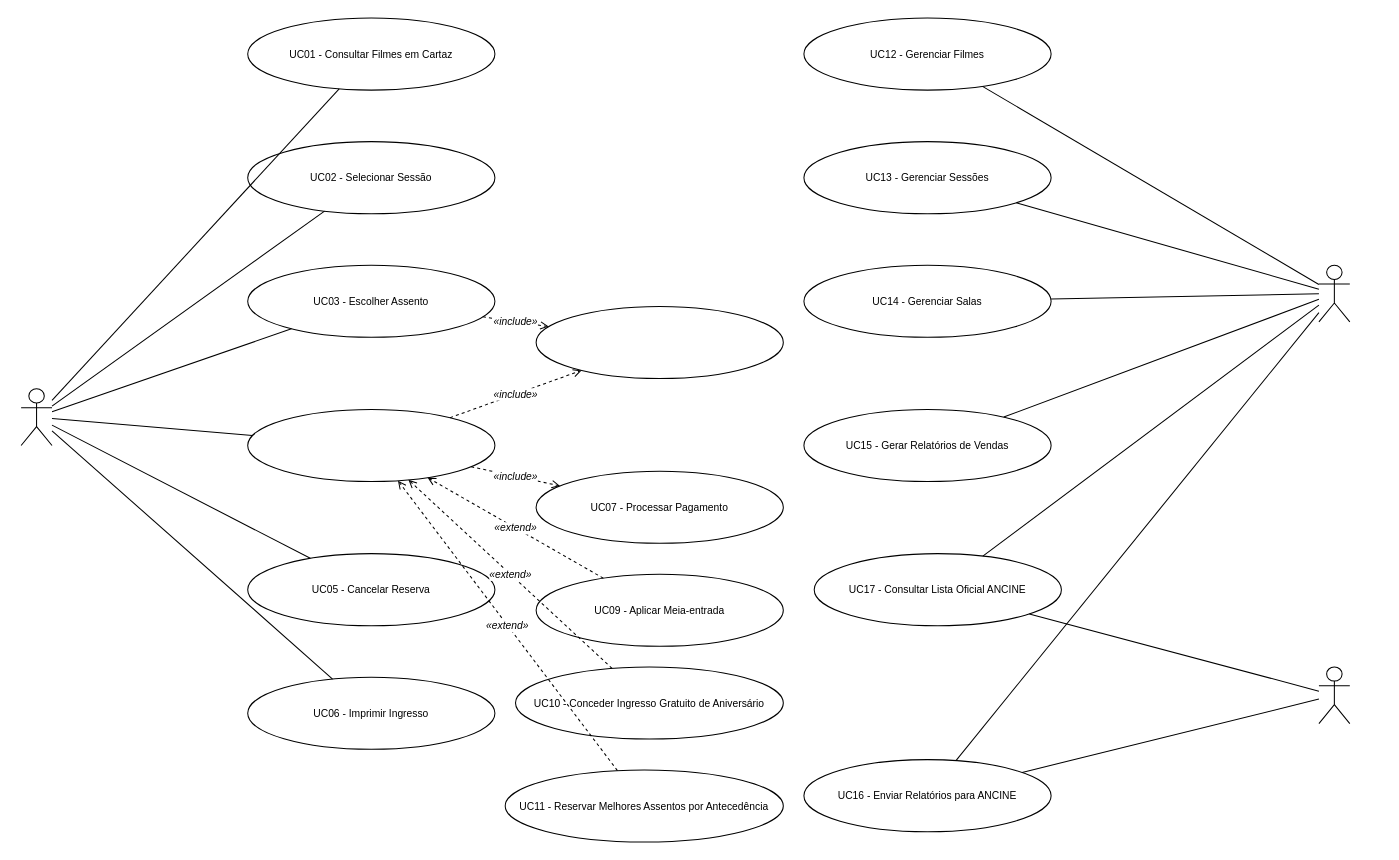
Some shapes in this 1399 by 860 pixel diagram are drawn without their labels. The box of each missing label's shape, as (x1, y1, x2, y2) in pixels:
Administrador: (1318, 264, 1350, 322)
Cliente: (20, 388, 52, 445)
Sistema ANCINE: (1318, 666, 1350, 724)
UC04 - Reservar Ingresso: (247, 408, 495, 482)
UC08 - Verificar Disponibilidade: (535, 305, 783, 379)
